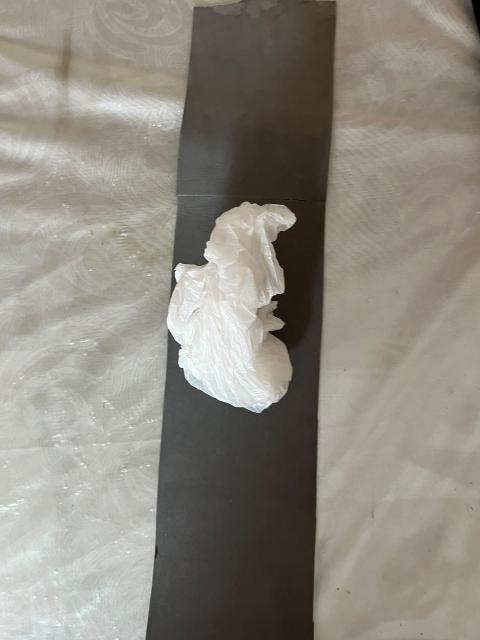LDPE: (116, 146, 341, 512)
